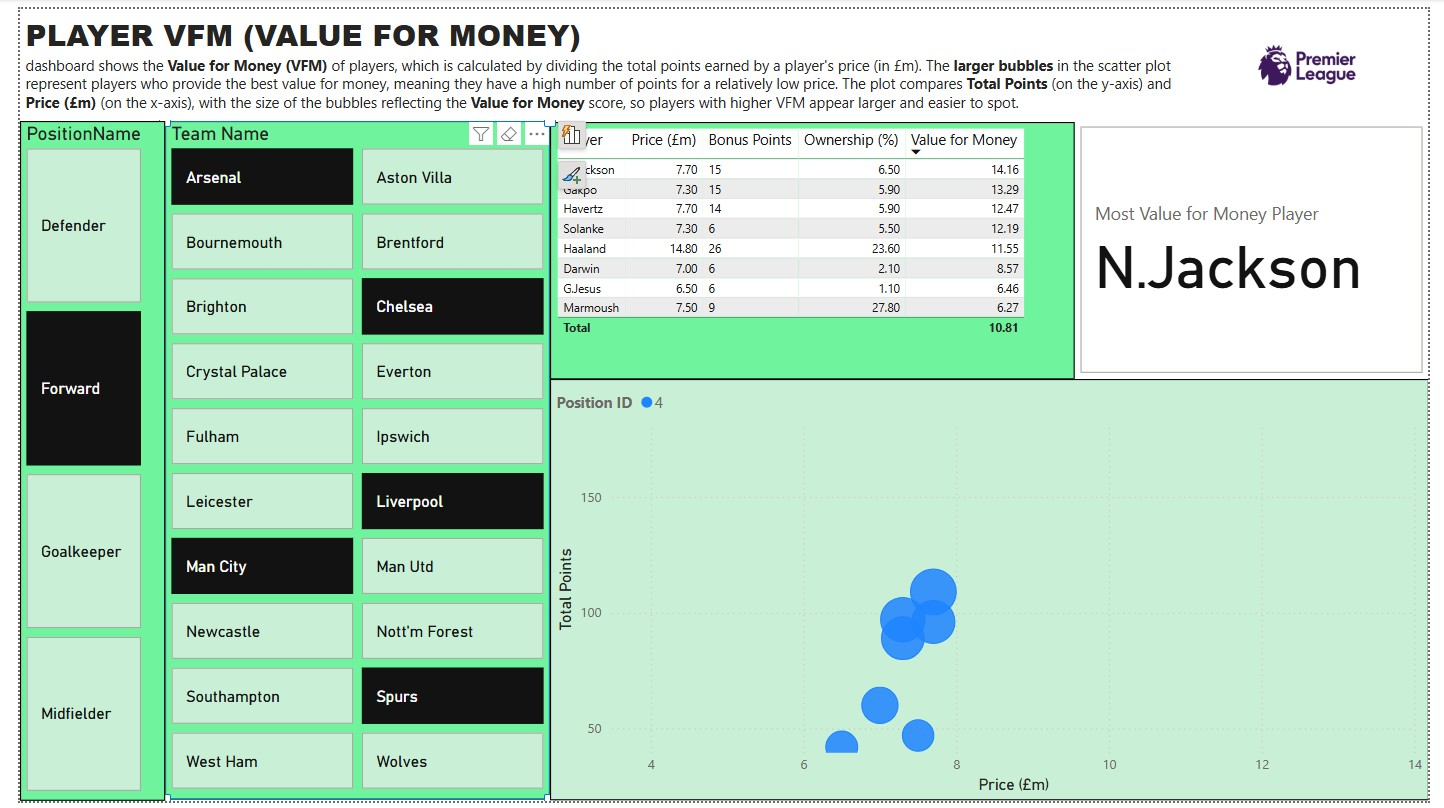

The page's visual inventory and layout, read from the dashboard file:
{"tool":"powerbi","page":{"name":"VFM","canvas":[1280,720],"ordinal":2},"visuals":[{"type":"tableEx","fields":{"Values":["Player.Player","Player.Price (£m)","Player.Bonus Points","Player.Ownership (%)","Gameweeks.Value for Money"]},"box":[481.9,102.4,477.1,233.7],"z":0},{"type":"advancedSlicerVisual","fields":{"Values":["Team.Team Name"]},"box":[131.6,102.1,350.1,617],"z":1000},{"type":"advancedSlicerVisual","fields":{"Values":["Player.PositionName"]},"box":[0,102.1,131.6,617.9],"z":2000},{"type":"scatterChart","fields":{"X":["Player.Price (£m)"],"Y":["Player.Total Points"],"Series":["Player.Position ID"],"Size":["Gameweeks.Value for Money"]},"box":[481.9,336.1,798.8,383.1],"z":3000},{"type":"cardVisual","title":"Most Value for Money Player","fields":{"Data":["Gameweeks.Top1VFMPlayer"]},"box":[958.8,101.8,321.2,234.5],"z":4000},{"type":"image","box":[1060.2,0,219.3,102.4],"z":5000},{"type":"textbox","box":[0,0,1060.2,101.2],"z":6000}]}

Visuals, with their boxes in screenshot pixels (x1, y1, x2, y2), scaled from the page's 1280x720 canvas onto the 1444x808 screenshot:
tableEx - Player.Player x Player.Price (£m): (544, 115, 1082, 377)
advancedSlicerVisual - Team.Team Name: (148, 115, 543, 807)
advancedSlicerVisual - Player.PositionName: (0, 115, 148, 807)
scatterChart - Player.Price (£m) x Player.Total Points: (544, 377, 1443, 807)
"Most Value for Money Player" cardVisual: (1082, 114, 1443, 377)
image: (1196, 0, 1443, 115)
textbox: (0, 0, 1196, 114)
